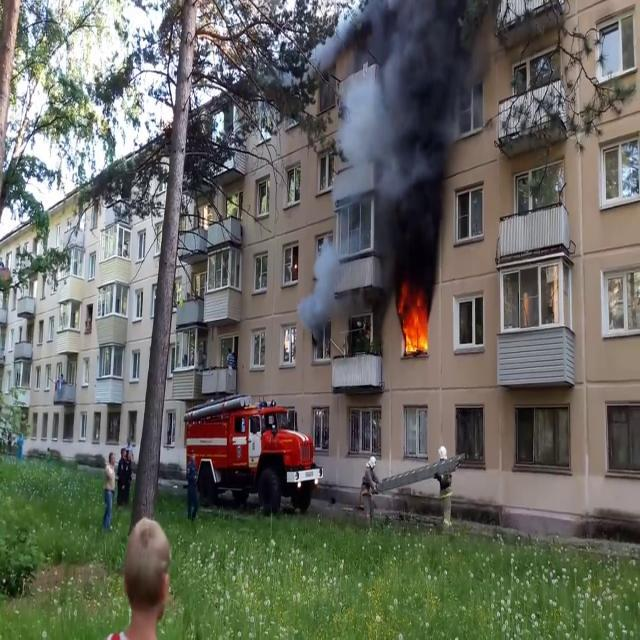Fire: (400, 293, 430, 356)
Smoke: (346, 0, 473, 292), (300, 224, 344, 335)
